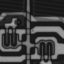dust: (31, 29, 34, 31)
